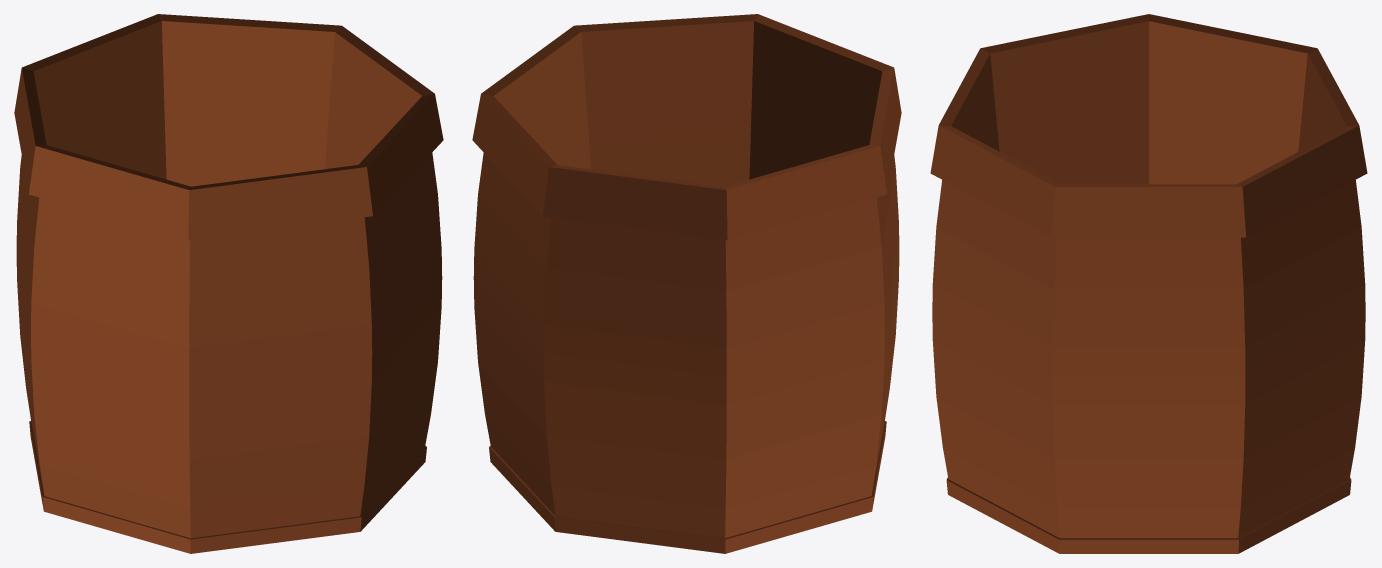
Rendered from Hexagonal Cup 1.fbx.
3 renders of one model, left to right at view 1: azimuth 30°, elevation 25°; view 2: azimuth 150°, elevation 25°; view 3: azimuth 270°, elevation 25°, orthographic.
Visible parts, largest first — view 1: Node 0; view 2: Node 0; view 3: Node 0.
Part boxes in pixels (x1,y1,x2,y2): Node 0: (14,14,443,553); Node 0: (472,14,901,553); Node 0: (930,14,1367,553).
Bounding box in the file's own units: 0.1893 × 0.177 × 0.1846.
